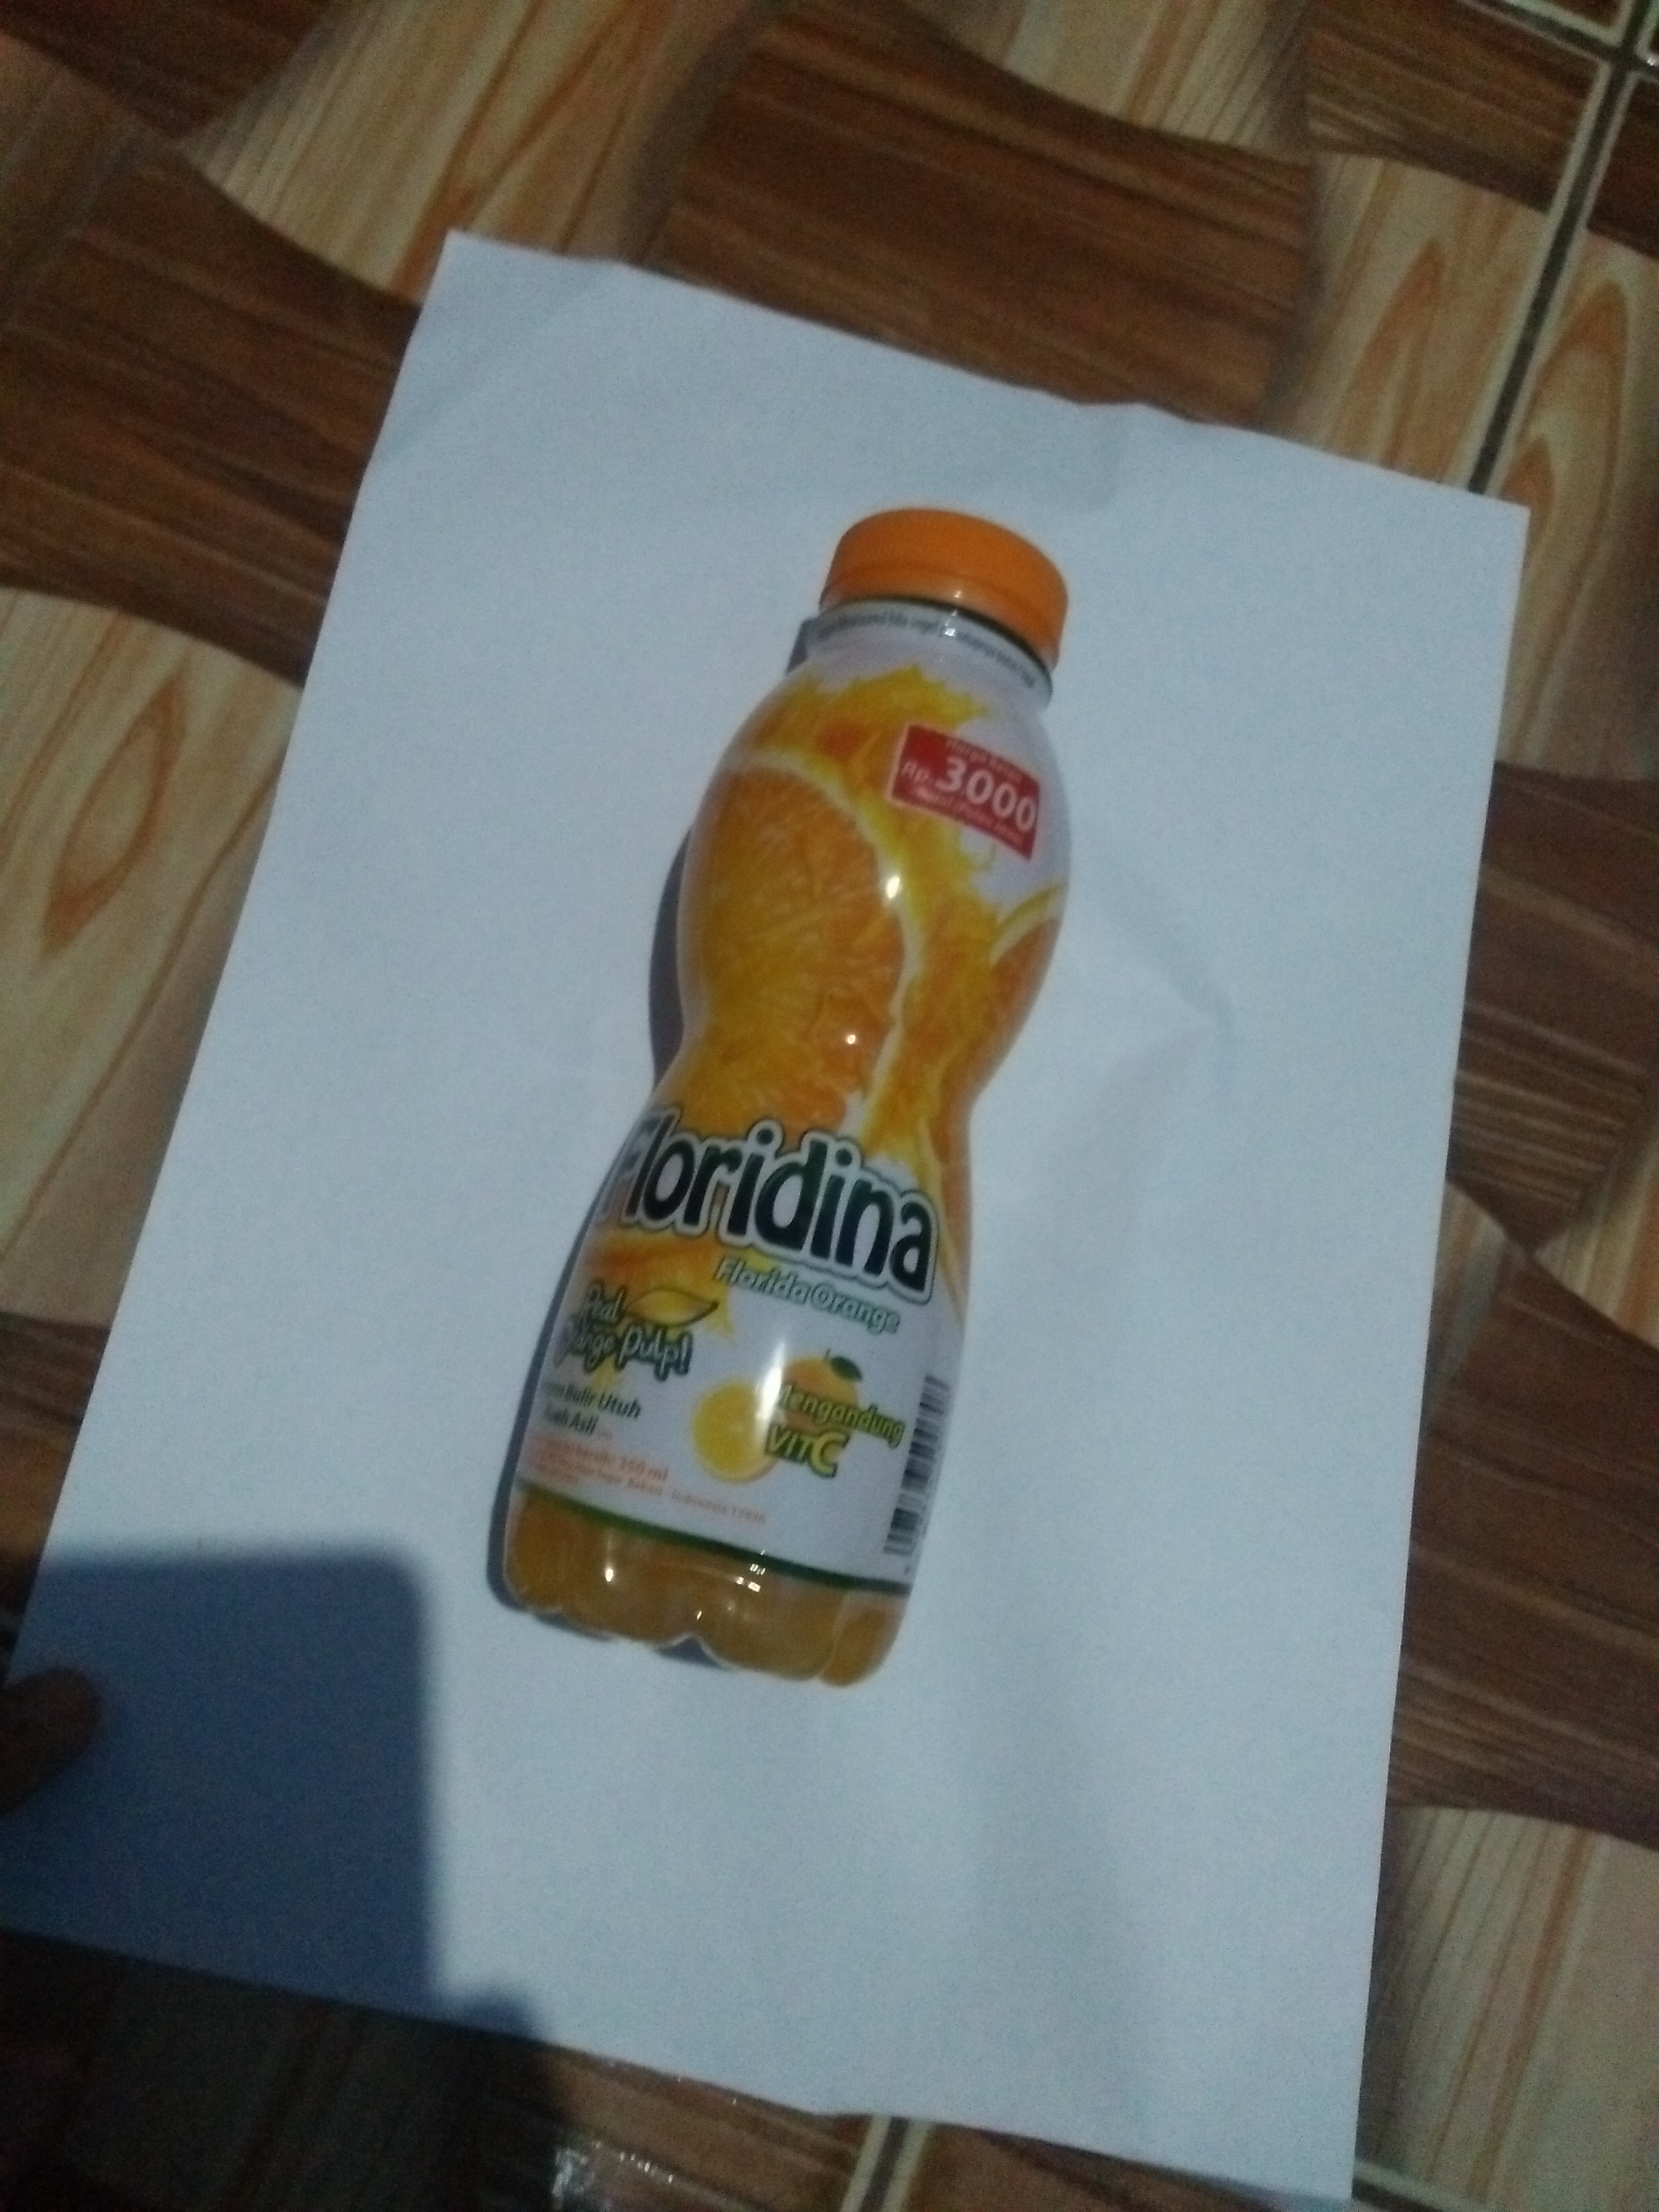Floridina: (479, 493, 1082, 1712)
